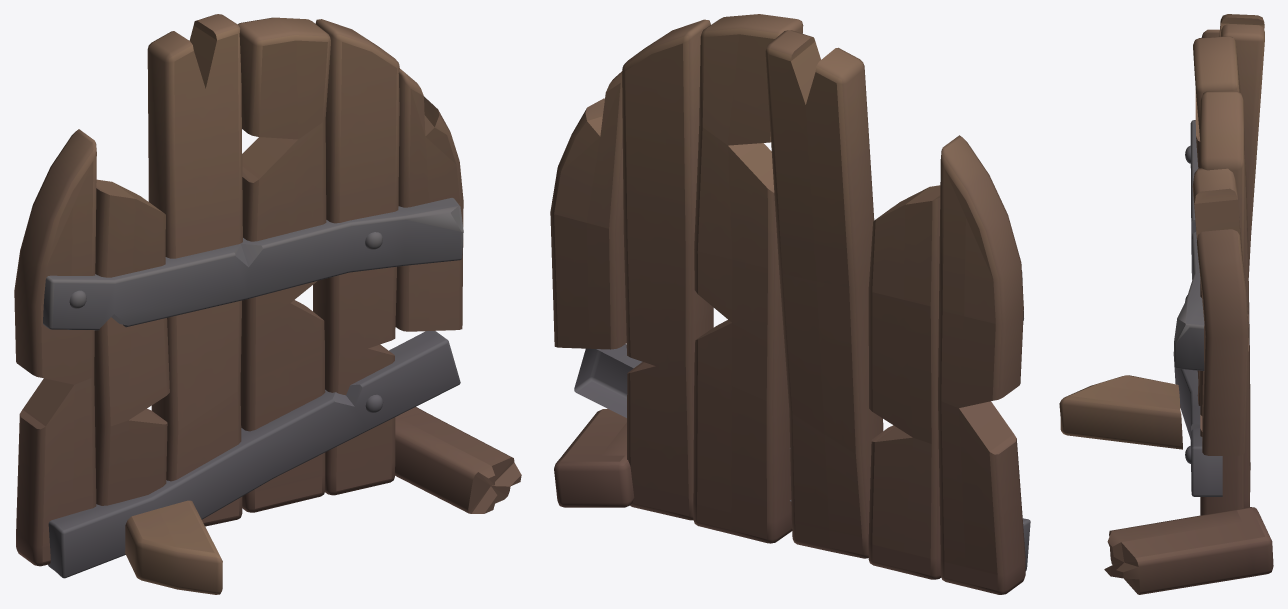
File: gateDoor_3.fbx
The picture shows the model from 3 angles, left to right: view 1: azimuth 30°, elevation 25°; view 2: azimuth 150°, elevation 25°; view 3: azimuth 270°, elevation 25°; orthographic projection. The views are drawn at different scales.
Parts seen in each view (by area): view 1: gate_hurt3; view 2: gate_hurt3; view 3: gate_hurt3.
Boxes of the visible parts, x1=… form: gate_hurt3: x1=14, y1=14, x2=521, y2=594; gate_hurt3: x1=550, y1=14, x2=1030, y2=594; gate_hurt3: x1=1059, y1=14, x2=1273, y2=594.
Bounding box in the file's own units: 180 × 191 × 80.17.
